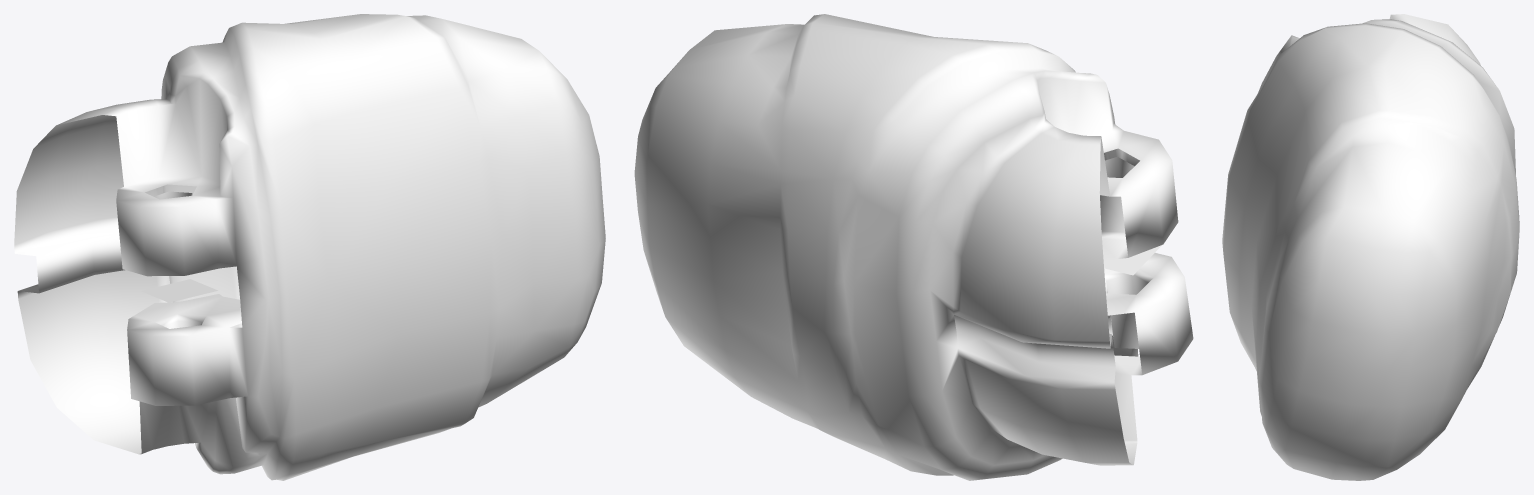
Rendered from LFinger23.dae.
The picture shows the model from 3 angles, left to right: view 1: azimuth 30°, elevation 25°; view 2: azimuth 150°, elevation 25°; view 3: azimuth 270°, elevation 25°; orthographic projection. The views are drawn at different scales.
Parts seen in each view (by area): view 1: LFinger23; view 2: LFinger23; view 3: LFinger23.
Part boxes in pixels (x1,y1,x2,y2): LFinger23: (14,14,605,480); LFinger23: (634,14,1193,480); LFinger23: (1222,14,1519,480).
Size of the model in its own units: 0.204 by 0.1614 by 0.1121.
Materials: 1 (1 with a texture image).
